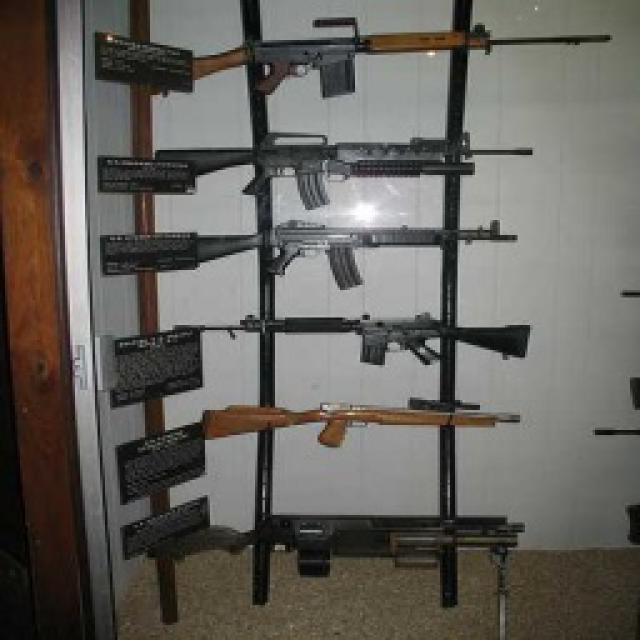long weapon: (153, 114, 527, 198), (190, 9, 566, 90), (208, 491, 521, 585), (204, 289, 530, 366), (194, 388, 515, 460), (187, 209, 523, 276)
